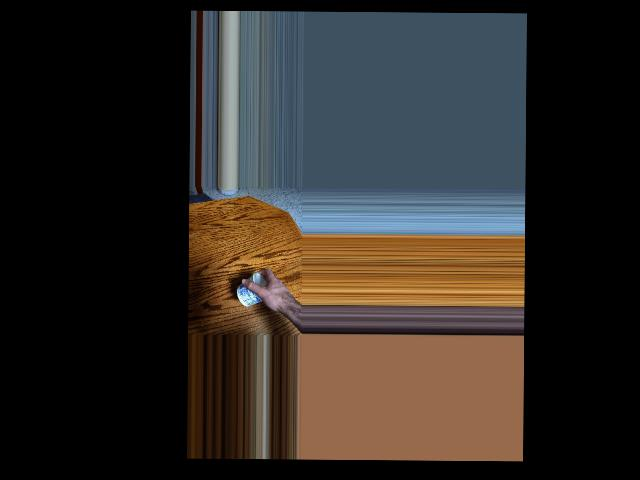cotage: (235, 271, 266, 310)
